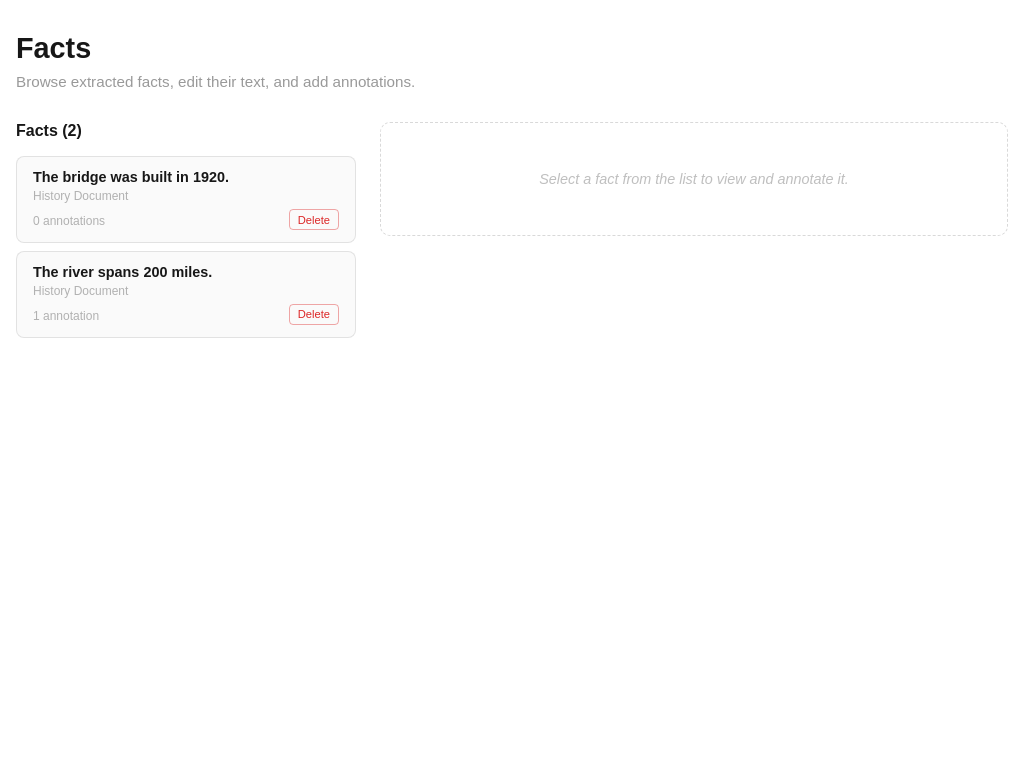
it: FactsPage › shows annotation panel when a fact is selected
Expected: the text "The bridge was built in 1920." is shown, [33, 169, 229, 185]
Click the button with aria-label "select fact: the bridge was built in 1920". click: click(131, 177)
box: [16, 156, 356, 243]
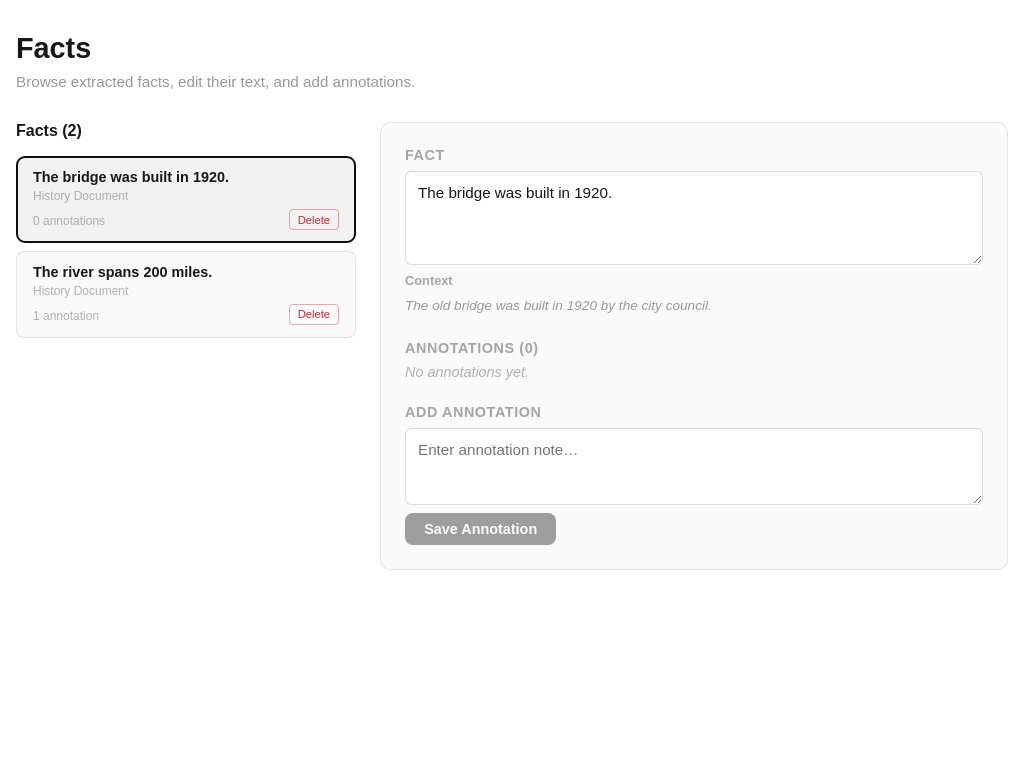
Expected: the text box named "edit fact text" is shown, [405, 171, 983, 265]
Expected: the text box named "annotation text" is shown, [405, 428, 983, 505]
